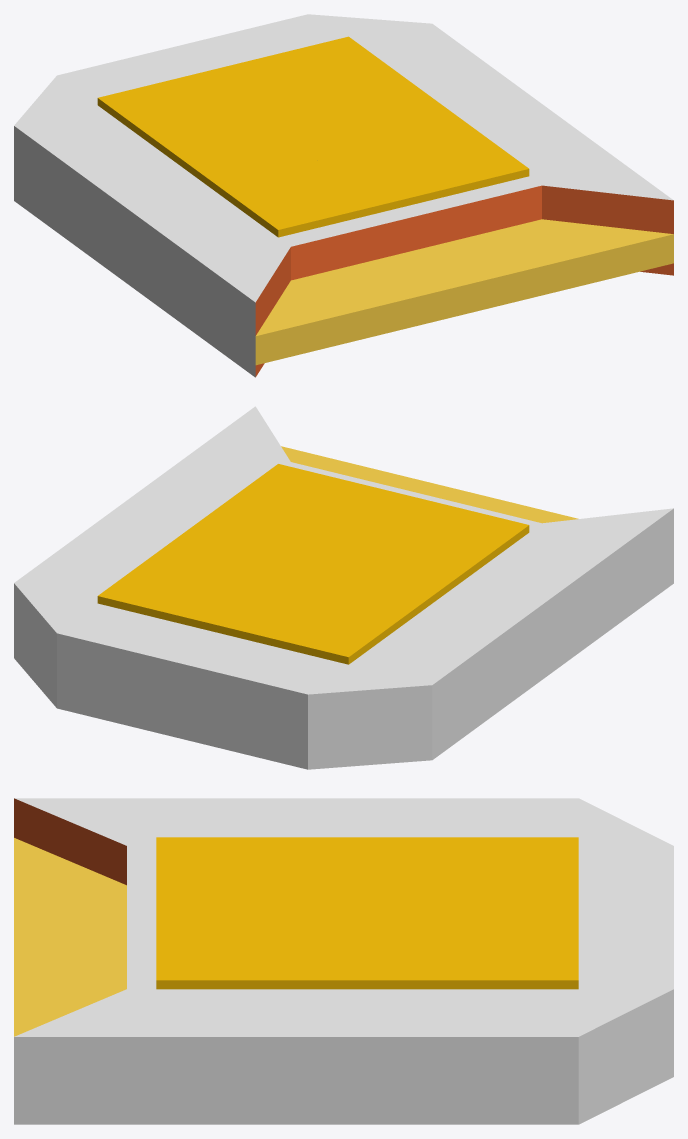
File: Upgrade_Food_03.fbx
3 renders of one model, top to bottom at view 1: azimuth 30°, elevation 25°; view 2: azimuth 150°, elevation 25°; view 3: azimuth 270°, elevation 25°, orthographic. The views are drawn at different scales.
Parts seen in each view (by area): view 1: Cube.001; view 2: Cube.001; view 3: Cube.001.
Part boxes in pixels (<box>): Cube.001: <box>14,14,673,377</box>; Cube.001: <box>14,406,673,769</box>; Cube.001: <box>14,798,673,1124</box>.
Bounding box in the file's own units: 86.17 × 17.74 × 101.
